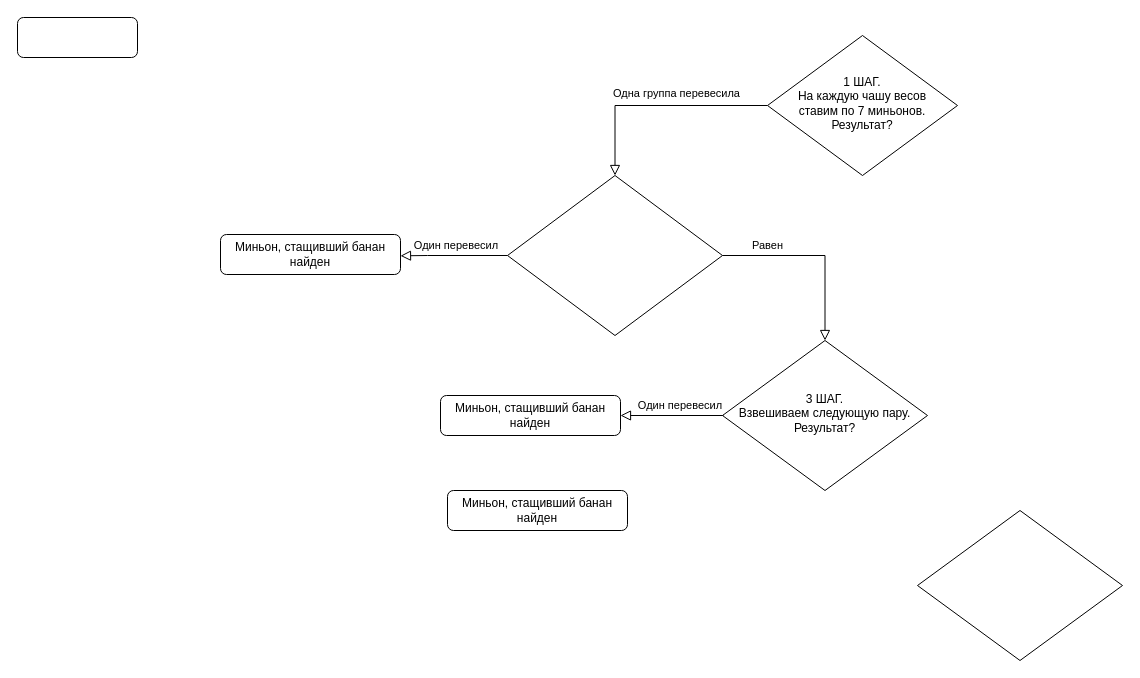
Image size: 1140x678. Some labels were removed from this diagram. Each missing label, with the centre of its shape:
2 ШАГ. Внутри тяжелой групп проводим взвешивание по одному. Результат?: [614,255]
4 ШАГ. Взвешиваем следующую пару. Результат?: [1019,585]
Lamp doesn't work: [77,37]
